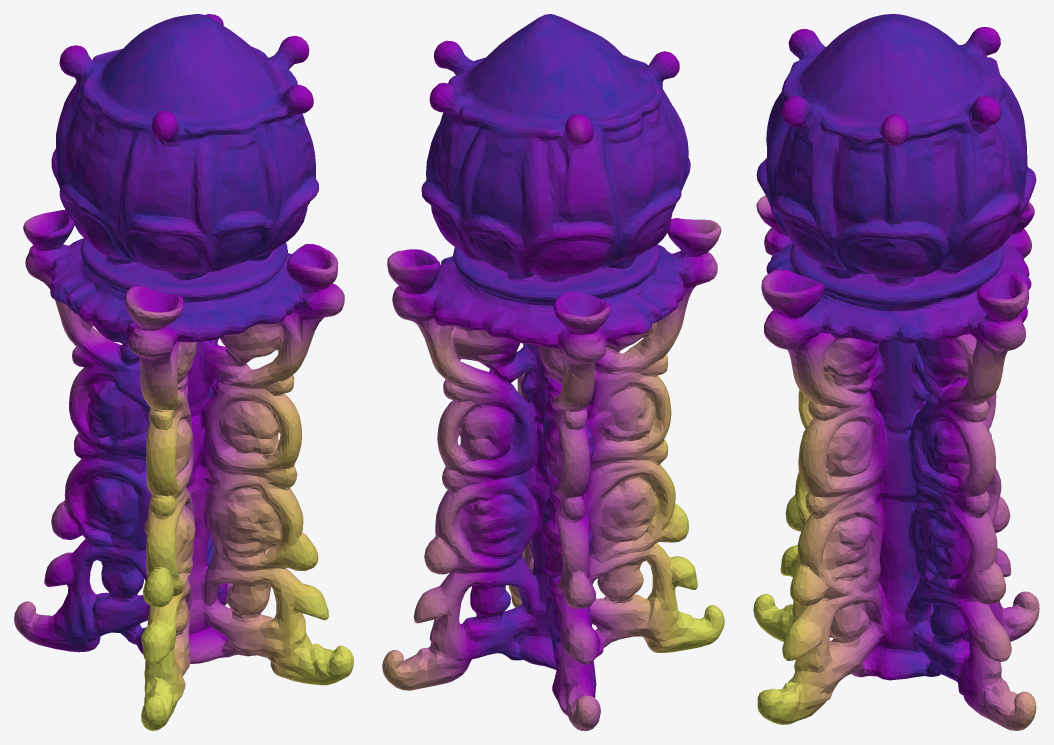
File: iter_9.glb
3 views of the same model, side by side, from view 1: azimuth 30°, elevation 25°; view 2: azimuth 150°, elevation 25°; view 3: azimuth 270°, elevation 25° (orthographic). The views are drawn at different scales.
Parts seen in each view (by area): view 1: textured_mesh; view 2: textured_mesh; view 3: textured_mesh.
Part boxes in pixels (bbox=[...]): textured_mesh: bbox=[14, 14, 353, 730]; textured_mesh: bbox=[382, 14, 724, 730]; textured_mesh: bbox=[753, 14, 1039, 730].
Bounding box in the file's own units: 0.759 × 2 × 0.775.
